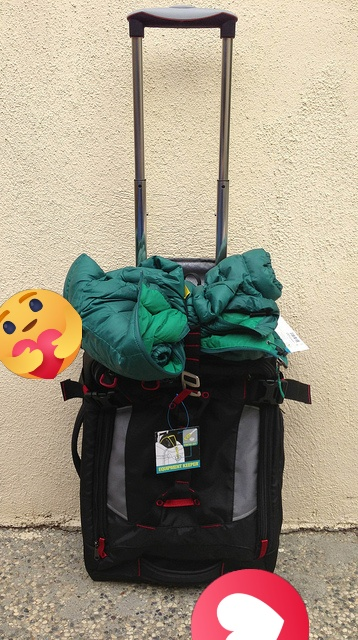care: (0, 289, 82, 379)
love: (191, 569, 309, 640)
